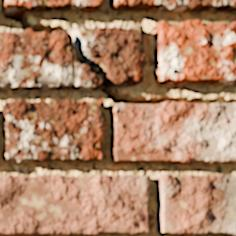brick: (0, 174, 148, 234), (111, 102, 235, 163), (3, 99, 103, 161), (154, 20, 235, 84), (157, 175, 235, 234), (110, 0, 235, 11), (5, 0, 102, 11)
broken_brick: (0, 30, 101, 91), (75, 24, 146, 86)
crack: (1, 0, 235, 105)
